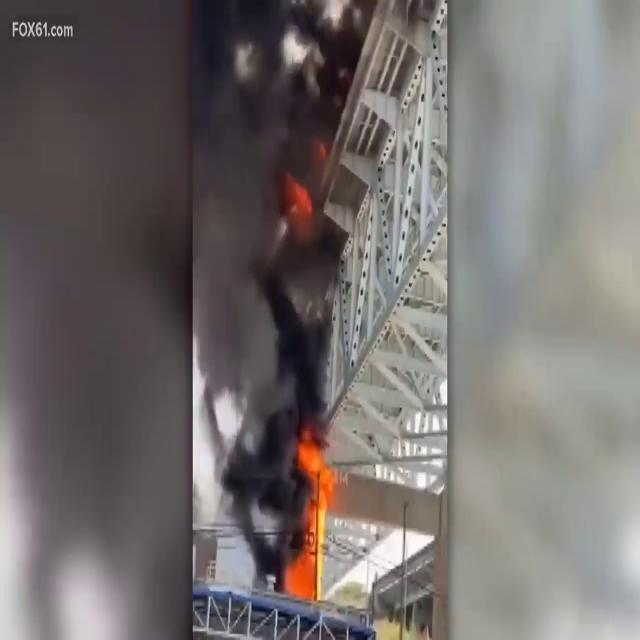Fire: (284, 428, 340, 600)
Smoke: (192, 1, 354, 487)
